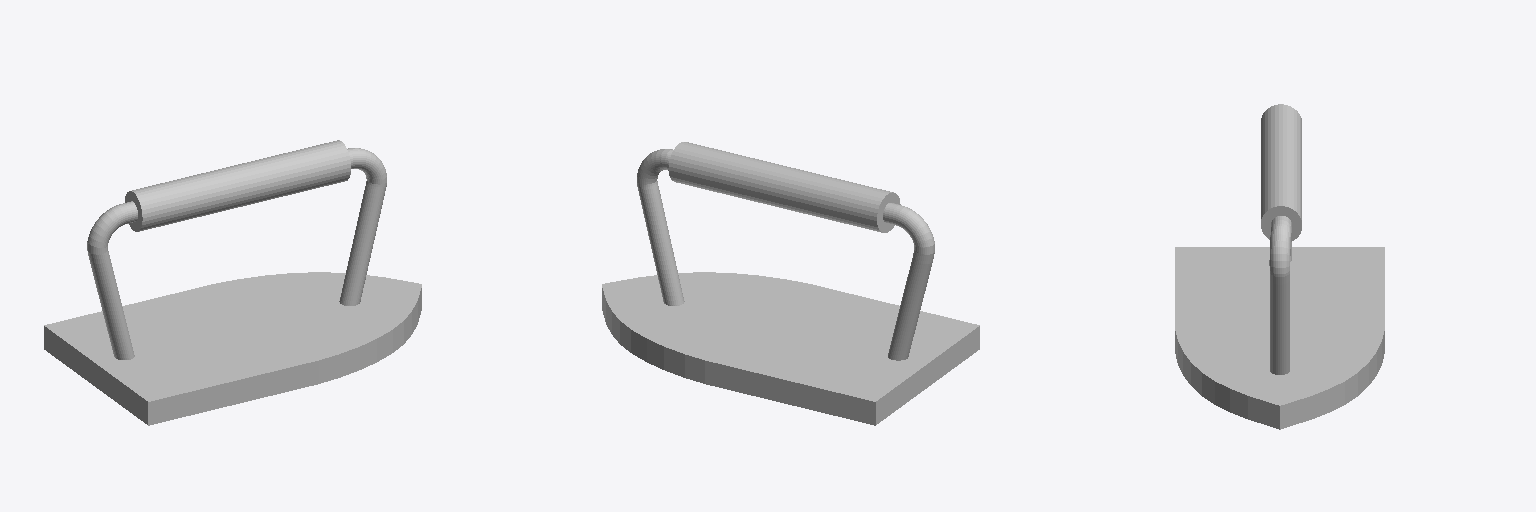
Rendered from Iron.obj.
3 renders of one model, left to right at view 1: azimuth 30°, elevation 25°; view 2: azimuth 150°, elevation 25°; view 3: azimuth 270°, elevation 25°, orthographic.
Visible parts, largest first — view 1: Cube; view 2: Cube; view 3: Cube.
Part boxes in pixels (left/top/right/bottom): Cube: left=44, top=140, right=421, bottom=425; Cube: left=602, top=142, right=979, bottom=425; Cube: left=1175, top=104, right=1384, bottom=429.
Size of the model in its own units: 3.67 by 1.95 by 2.